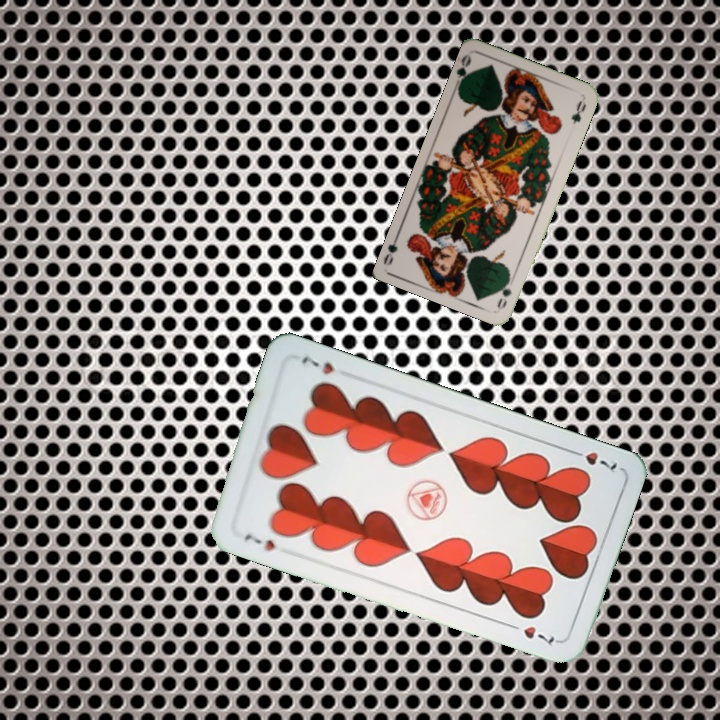GO: (450, 51, 475, 91), (497, 271, 515, 311)
H7: (564, 445, 620, 476), (240, 529, 278, 554)
